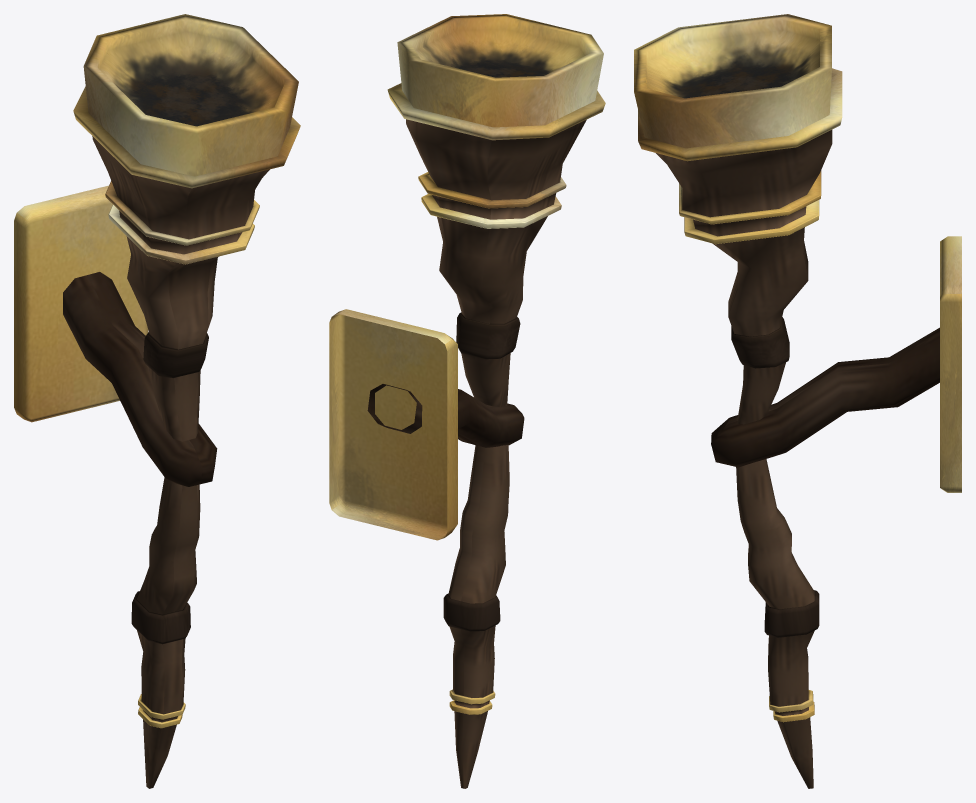
File: temple_torch.glb
3 views of the same model, side by side, from view 1: azimuth 30°, elevation 25°; view 2: azimuth 150°, elevation 25°; view 3: azimuth 270°, elevation 25° (orthographic). The views are drawn at different scales.
Visible parts, largest first — view 1: Wall_torch; view 2: Wall_torch; view 3: Wall_torch.
Boxes of the visible parts, box(x1,y1,x2,y2) form: Wall_torch: box(14, 14, 300, 788); Wall_torch: box(329, 14, 605, 788); Wall_torch: box(634, 14, 961, 788).
Size of the model in its own units: 0.148 by 0.6263 by 0.2508.
Materials: 1 (1 with a texture image).
